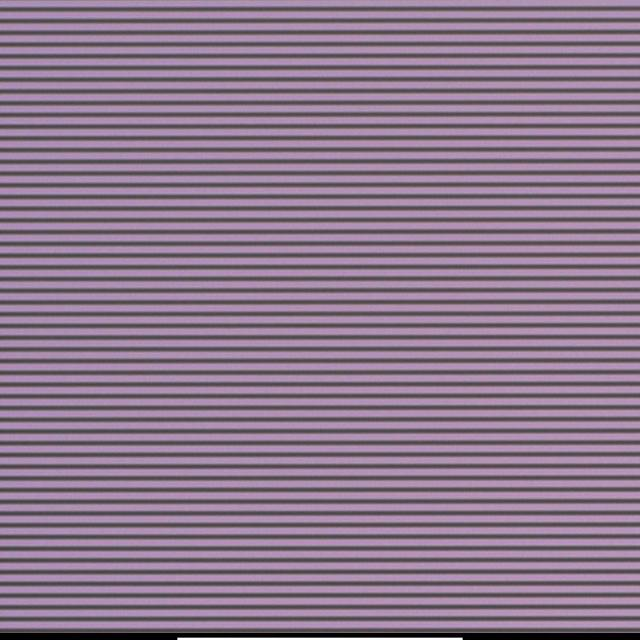03_intrusion: (326, 310, 336, 320)
